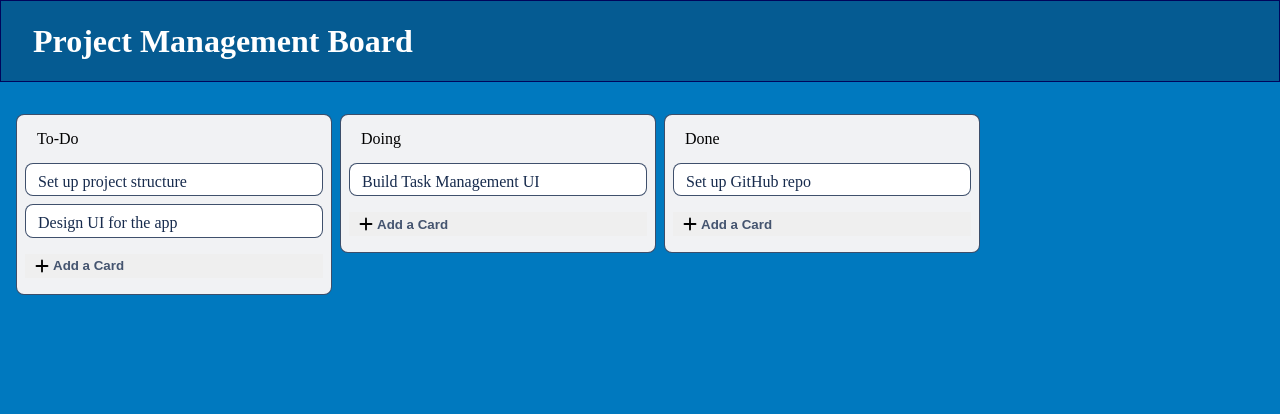
Project Management Board E2e › should allow adding a new card to a list
Click the button with test id "list.initiateCreateCardButton" below "To-Do": {"x": 89, "y": 266} [25, 254, 323, 278]
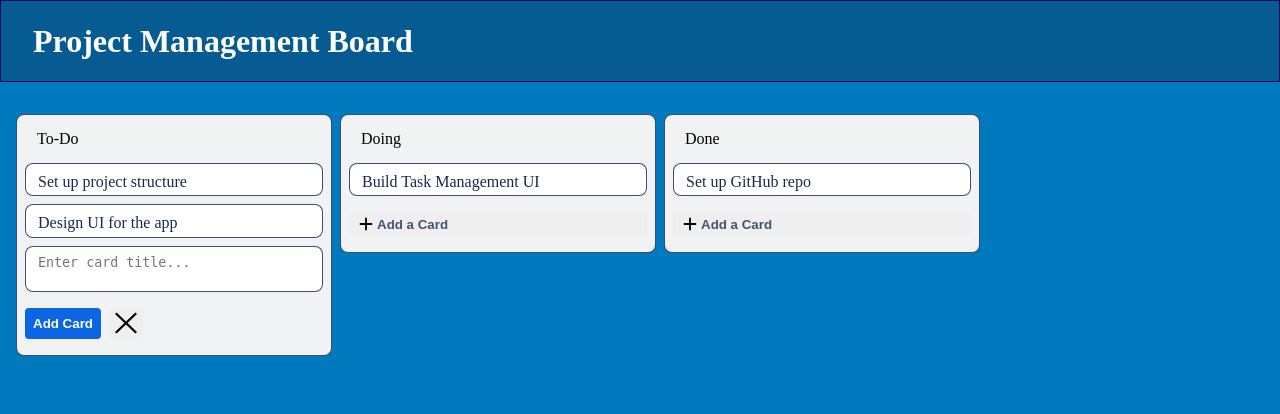
Expected: the text box with test id "card.title.editable" is shown
Verify an editable text area appears for entering the card title
In the text box with test id "card.title.editable": {"x": 174, "y": 271} [38, 255, 310, 287], type "New Test Card"
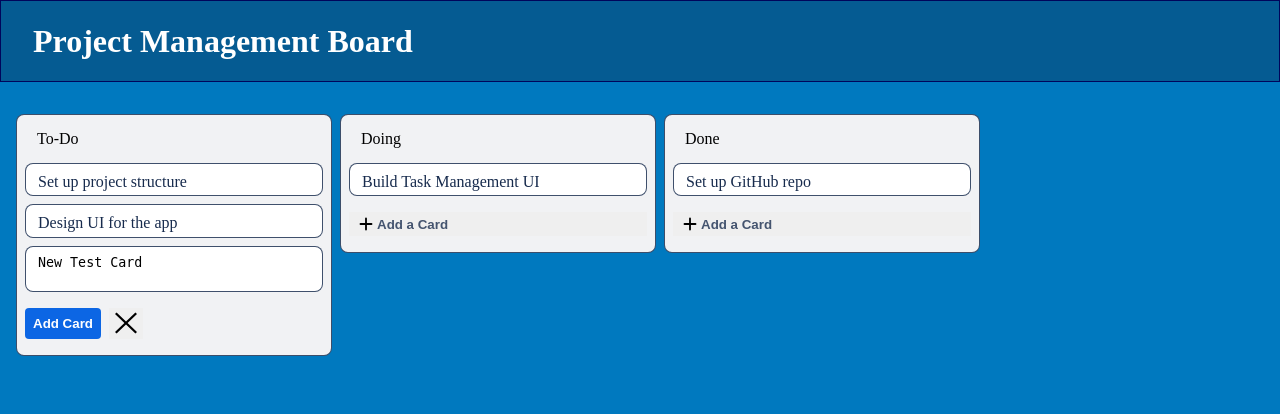
Click on the "Add Card" button
Click the button with test id "list.createCardButton": {"x": 63, "y": 324} [25, 308, 101, 339]
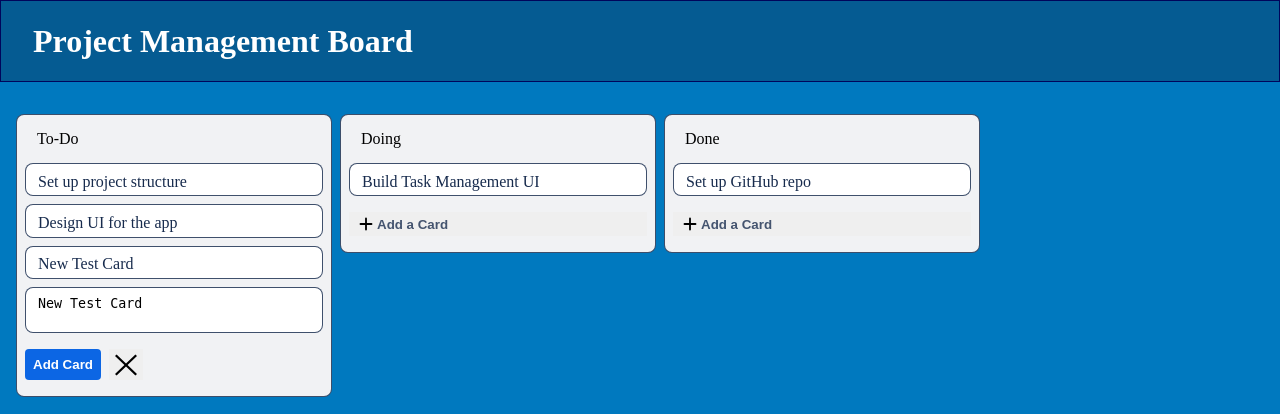
Expected: the text "New Test Card" is shown, [38, 256, 134, 272]
